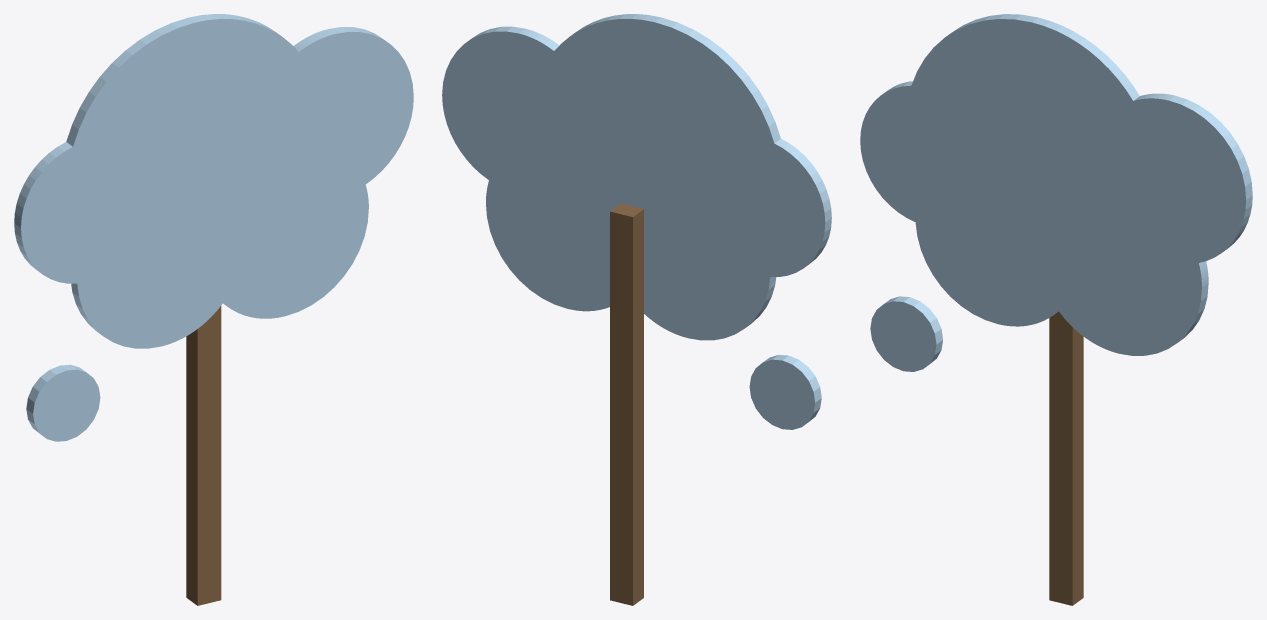
Rendered from pensee.glb.
3 renders of one model, left to right at view 1: azimuth 30°, elevation 25°; view 2: azimuth 150°, elevation 25°; view 3: azimuth 330°, elevation 25°, orthographic. The views are drawn at different scales.
Size of the model in its own units: 1 by 1.44 by 0.0889.
